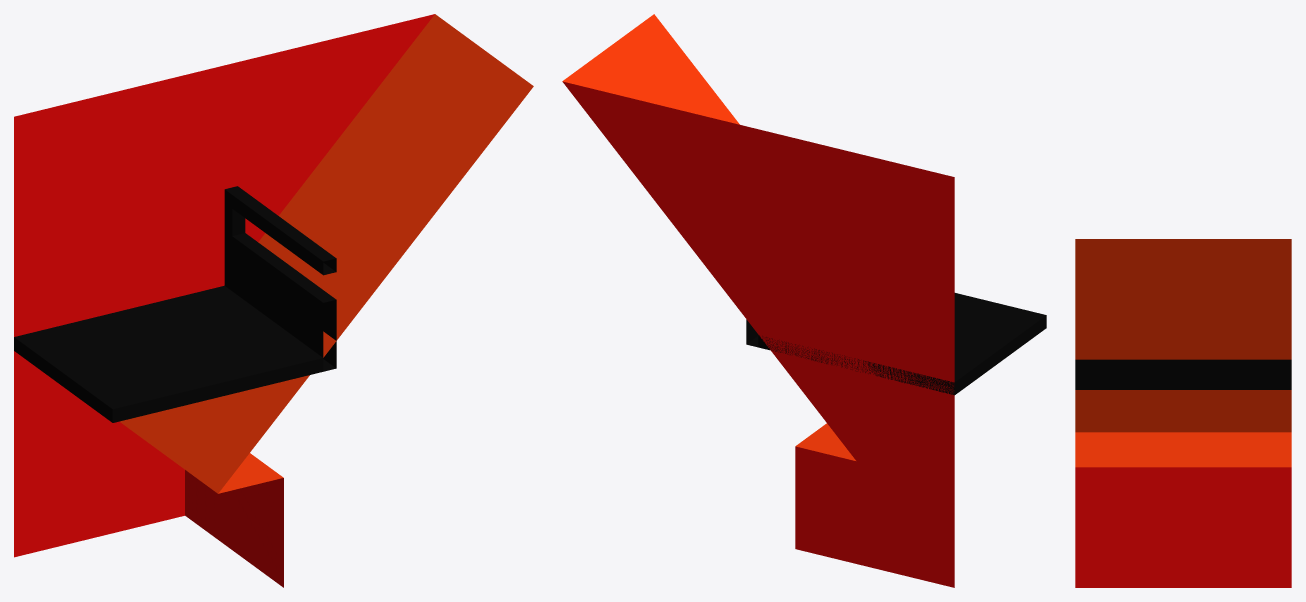
The picture shows the model from 3 angles, left to right: view 1: azimuth 30°, elevation 25°; view 2: azimuth 150°, elevation 25°; view 3: azimuth 270°, elevation 25°; orthographic projection. The views are drawn at different scales.
Parts seen in each view (by area): view 1: None_A_S_A_E_A_P_A_E_None; view 2: None_A_S_A_E_A_P_A_E_None; view 3: None_A_S_A_E_A_P_A_E_None.
Part boxes in pixels (x1=…): None_A_S_A_E_A_P_A_E_None: x1=14, y1=14, x2=533, y2=587; None_A_S_A_E_A_P_A_E_None: x1=562, y1=14, x2=1046, y2=587; None_A_S_A_E_A_P_A_E_None: x1=1075, y1=239, x2=1291, y2=587.
Bounding box in the file's own units: 100 × 100 × 40.62.
